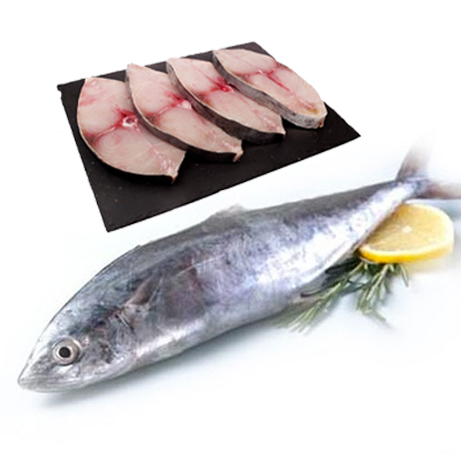Surmai: (17, 166, 435, 394)
